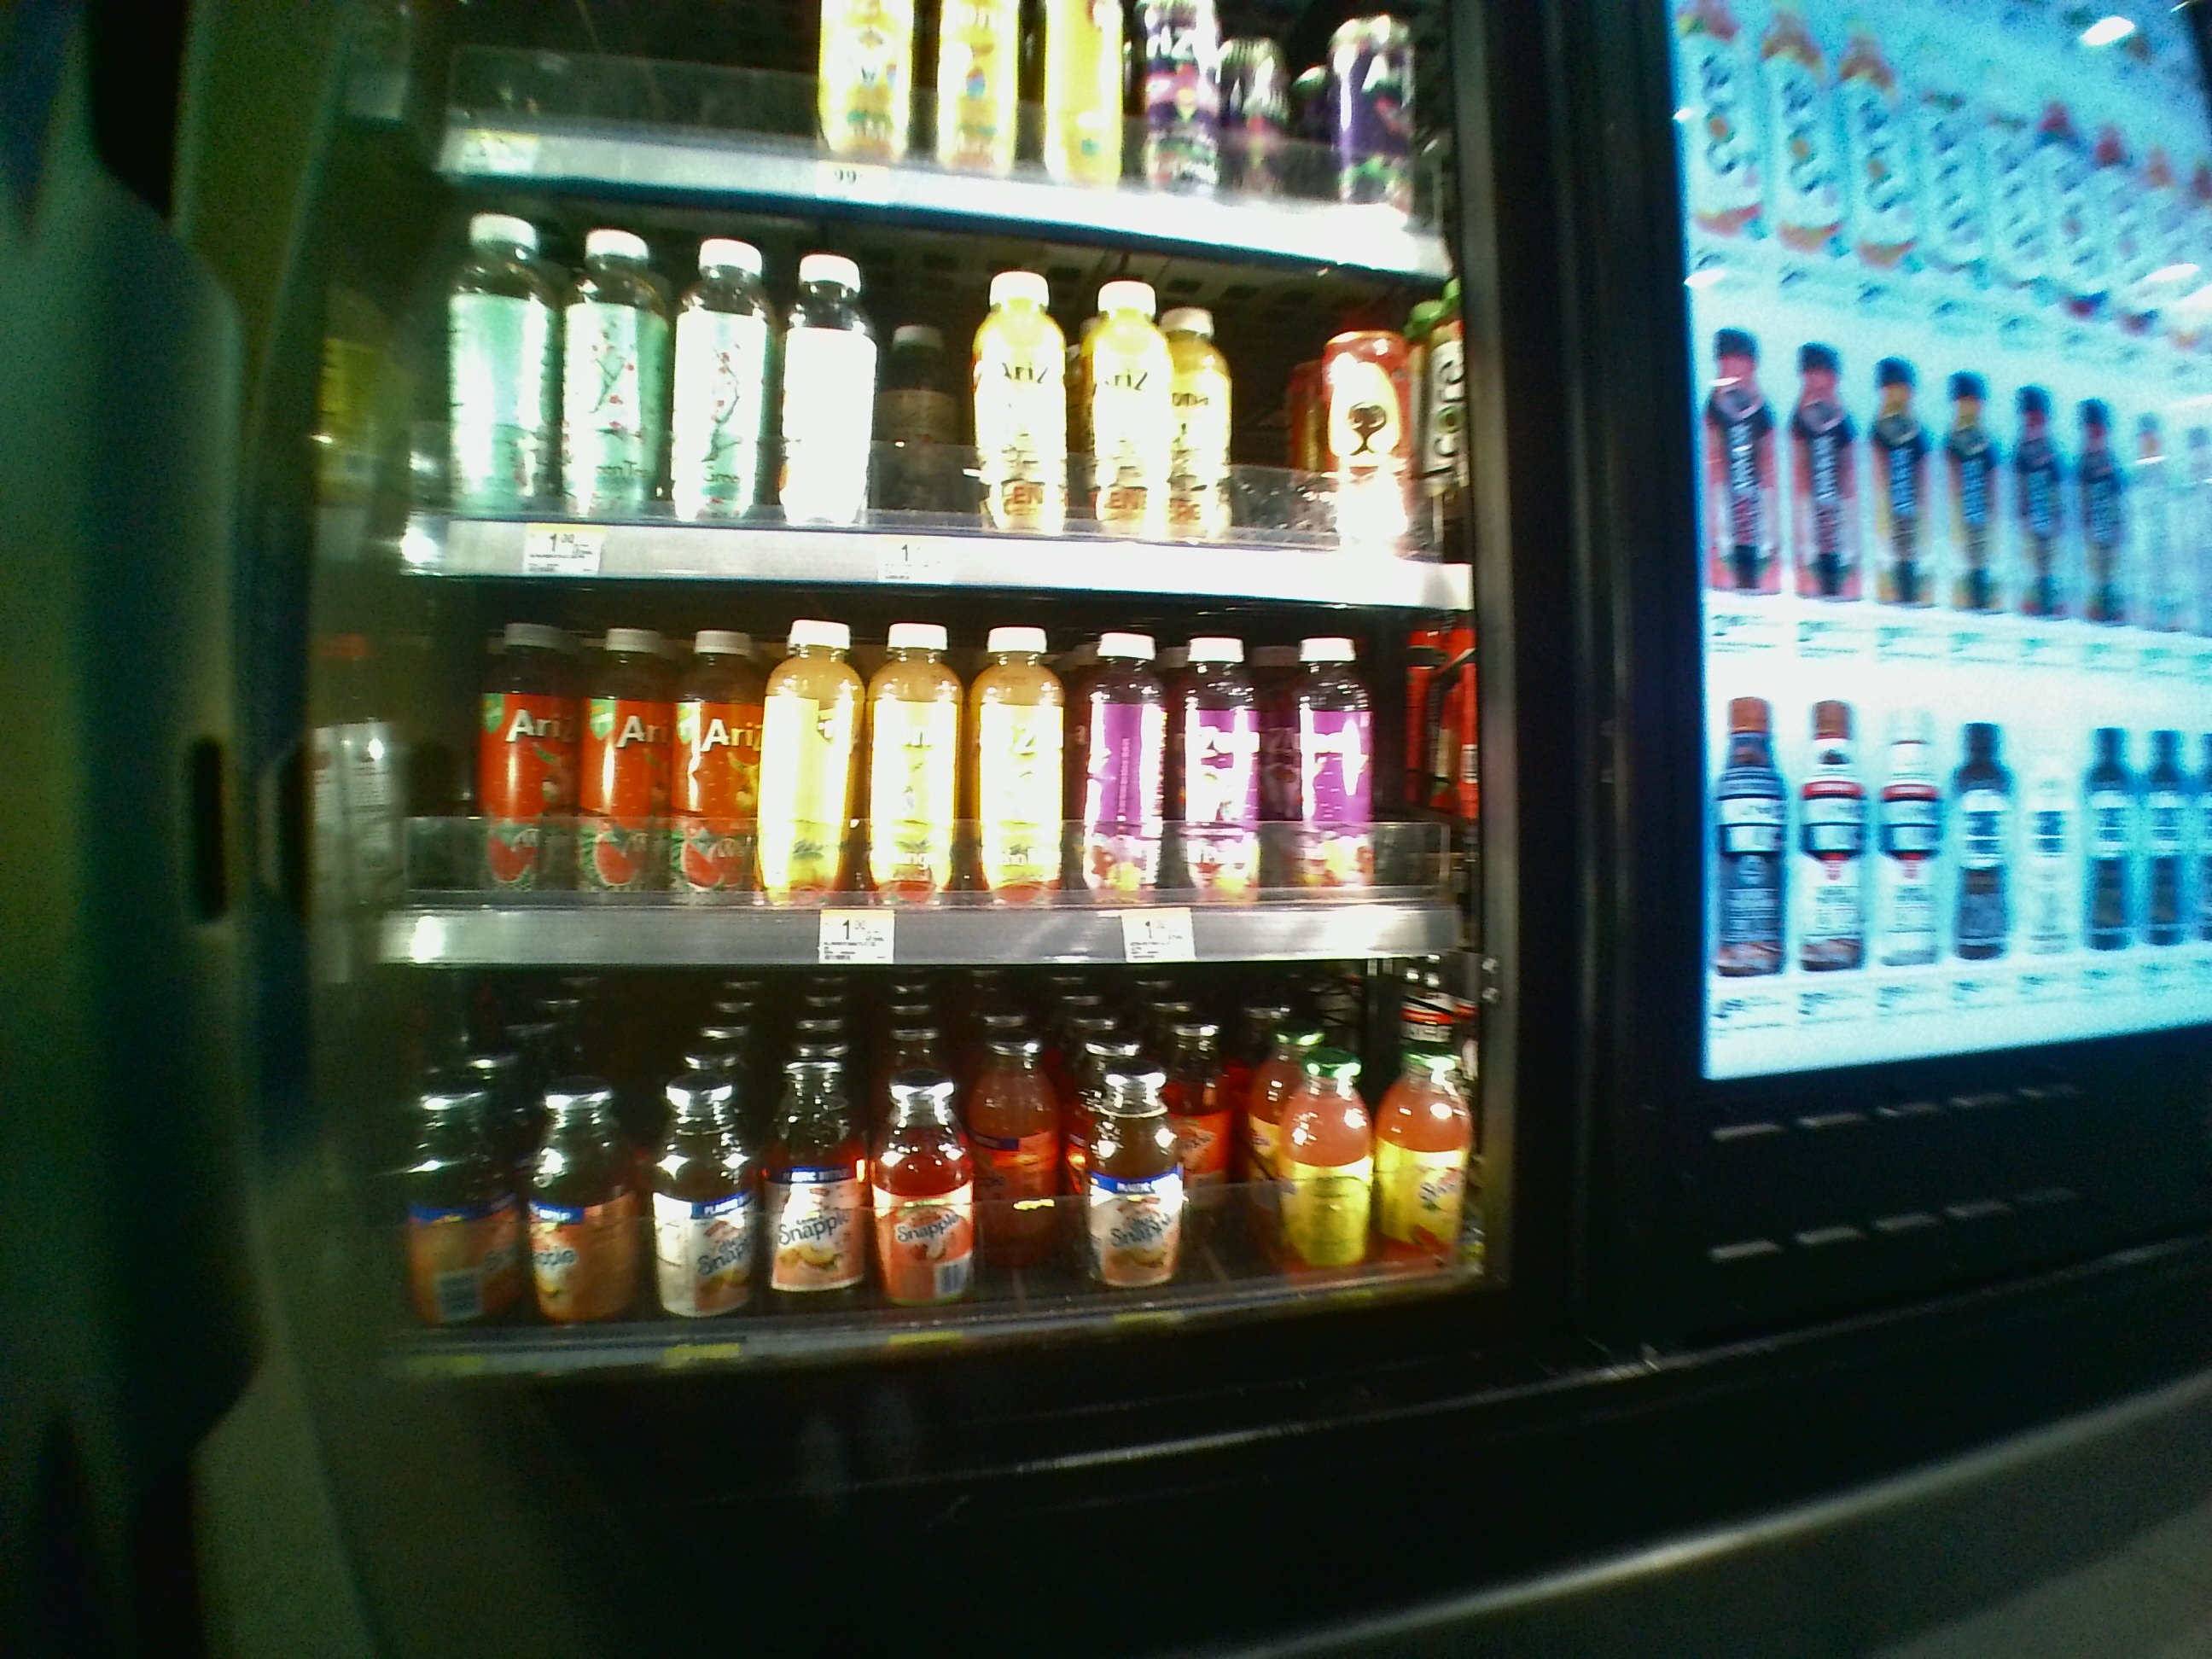shelf: (387, 972, 1484, 1394), (383, 580, 1470, 958)
